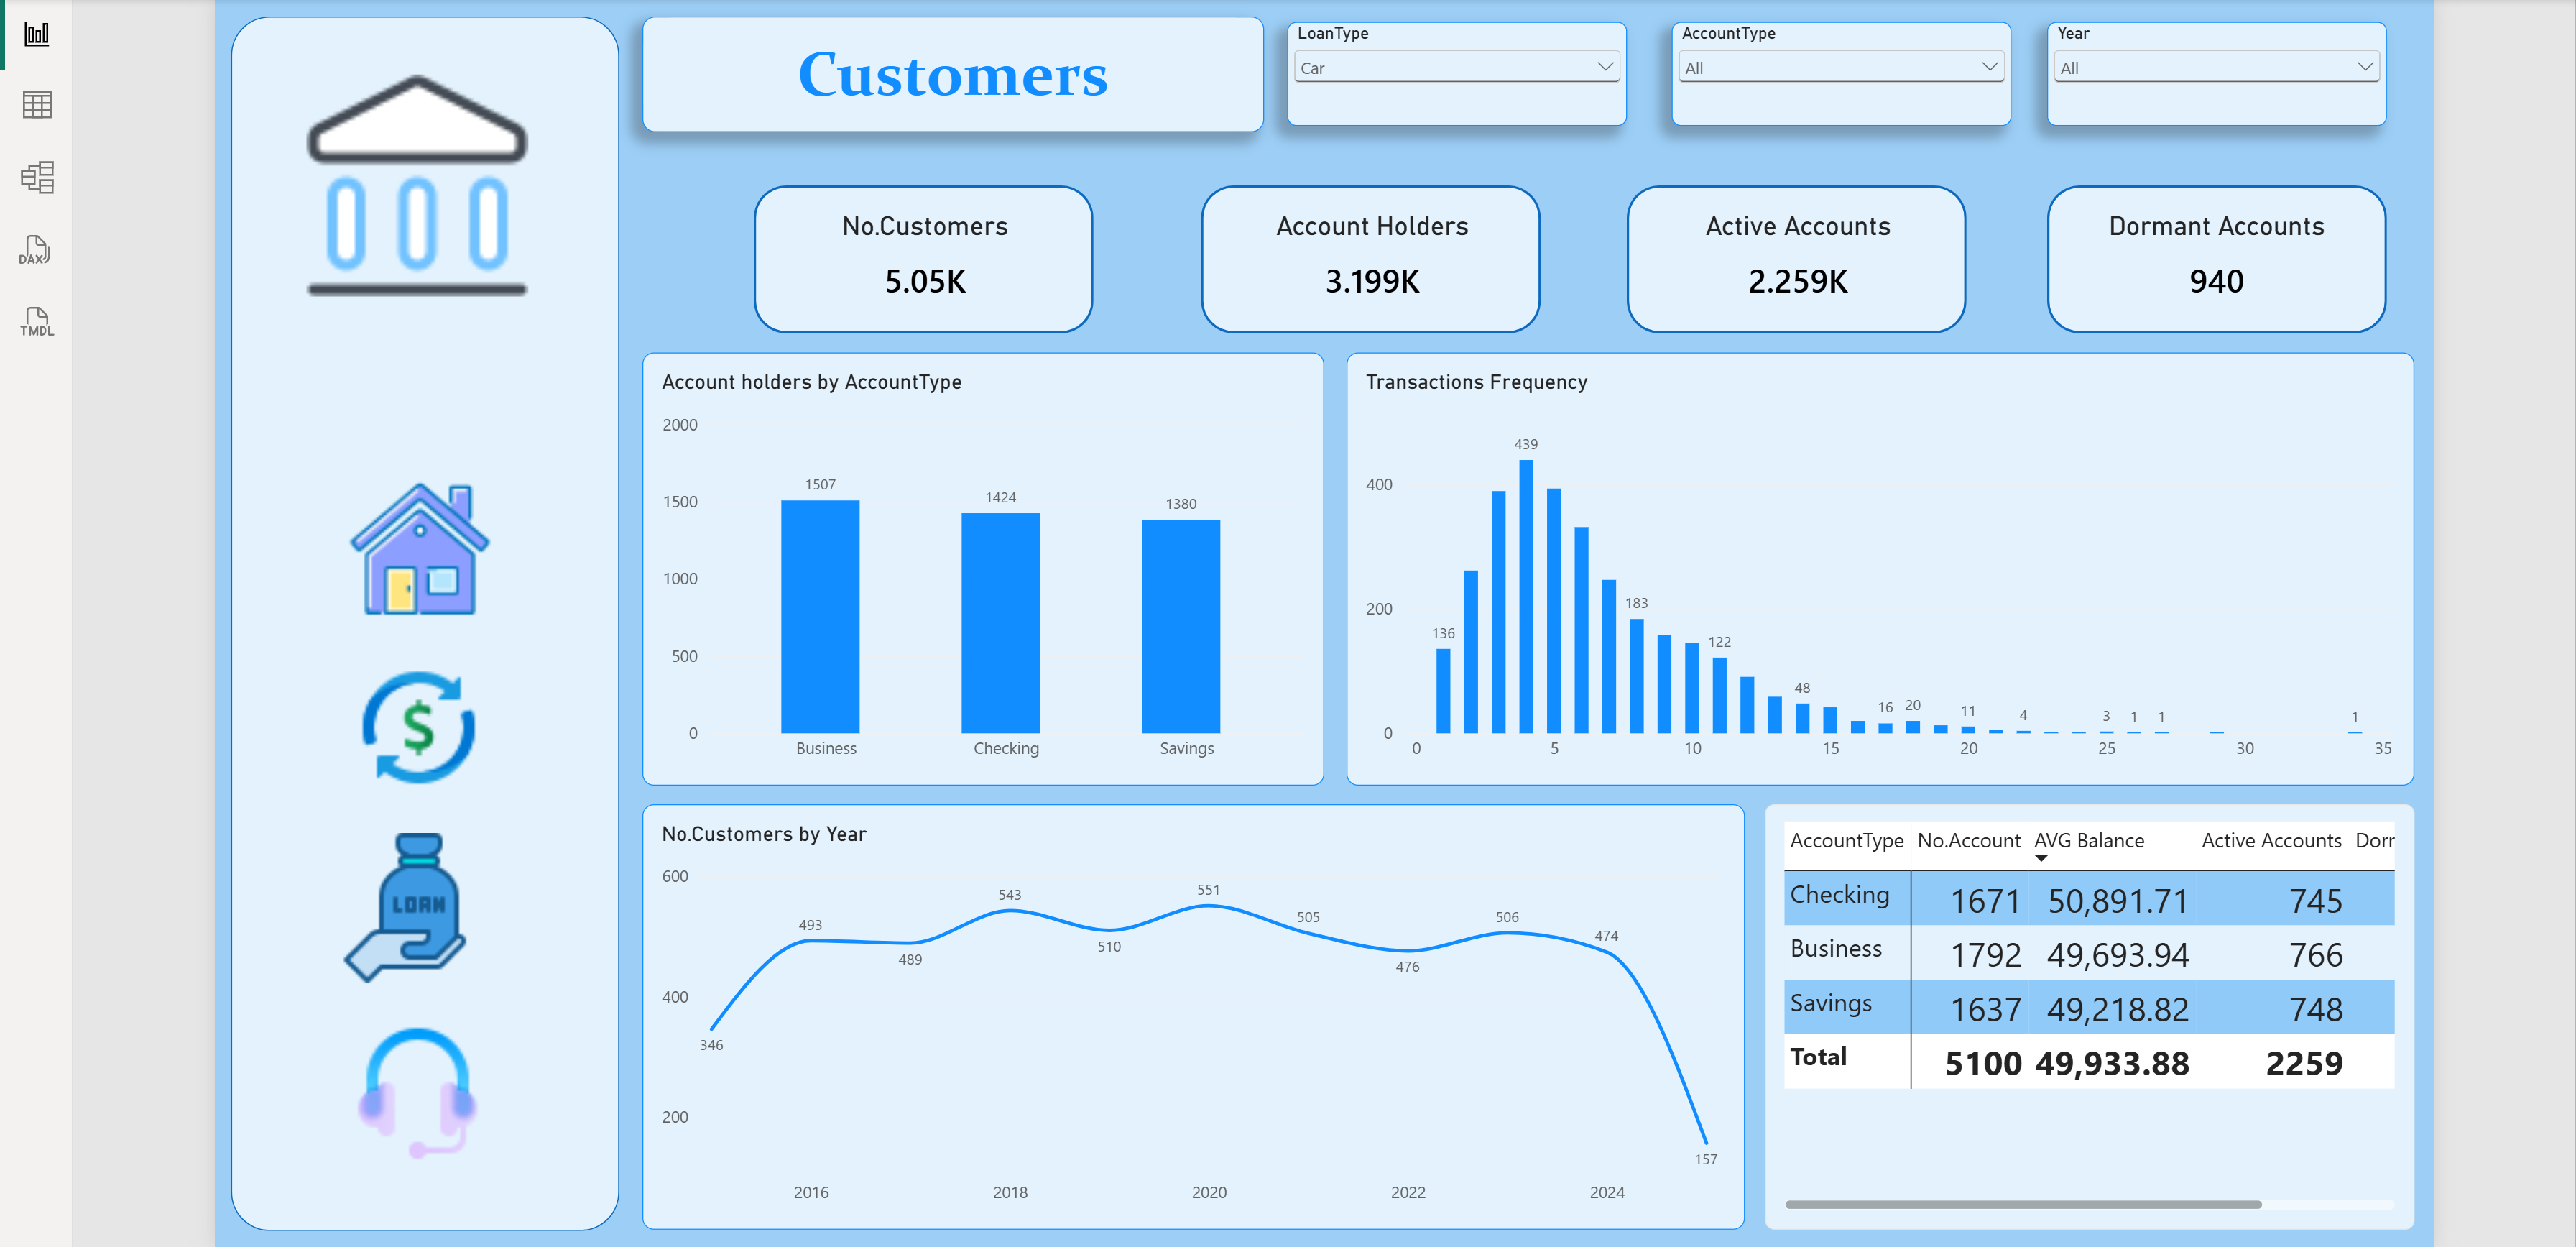

What the dashboard file says about the page in this screenshot:
{"tool":"powerbi","page":{"name":"Customers","canvas":[1920,1080],"ordinal":1},"visuals":[{"type":"shape","box":[1586,162,294,128],"z":0},{"type":"shape","box":[1222,162,294,128],"z":1000},{"type":"shape","box":[854,162,294,128],"z":2000},{"type":"shape","box":[466,162,294,128],"z":3000},{"type":"shape","box":[14,16,336,1050],"z":4000},{"type":"cardVisual","title":"No.Customers","fields":{"Data":["Customers calculations.No.Customers"]},"box":[520,184,188,76],"z":5000},{"type":"cardVisual","title":"Account Holders","fields":{"Data":["customer calculations.Account holder"]},"box":[908,184,188,76],"z":6000},{"type":"cardVisual","title":"Active Accounts","fields":{"Data":["customer calculations.Active Accounts"]},"box":[1276,184,188,76],"z":7000},{"type":"cardVisual","title":"Dormant Accounts","fields":{"Data":["customer calculations.NoneActive Accounts"]},"box":[1628,184,210,76],"z":8000},{"type":"columnChart","fields":{"Category":["Accounts.AccountType"],"Y":["customer calculations.Account holders"]},"box":[370,306,590,374],"z":9000},{"type":"columnChart","title":"Transactions Frequency","fields":{"Category":["customers.number transactions"],"Y":["Overview calculations.No.Customers"]},"box":[980,306,924,374],"z":10000},{"type":"lineChart","fields":{"Category":["calender.Date.Variation.Date Hierarchy.Year","calender.Date.Variation.Date Hierarchy.Quarter","calender.Date.Variation.Date Hierarchy.Month","calender.Date.Variation.Date Hierarchy.Day"],"Y":["Overview calculations.No.Customers"]},"box":[370,696,954,368],"z":11000},{"type":"pivotTable","fields":{"Rows":["Accounts.AccountType"],"Values":["customer calculations.No.Account","Overview calculations.AVG Balance","customer calculations.Active Accounts","customer calculations.NoneActive Accounts"]},"box":[1342,696,562,368],"z":12000},{"type":"image","box":[80,64,192,196],"z":13000},{"type":"image","box":[74,408,206,134],"z":14000},{"type":"image","box":[58,722,214,130],"z":15000},{"type":"image","box":[66,572,222,116],"z":16000},{"type":"image","box":[116,888,118,118],"z":17000},{"type":"slicer","fields":{"Values":["calender.Year"]},"box":[1586,20,294,90],"z":18000},{"type":"slicer","fields":{"Values":["Accounts.AccountType"]},"box":[1260,20,294,90],"z":19000},{"type":"slicer","fields":{"Values":["Loans.LoanType"]},"box":[928,20,294,90],"z":20000},{"type":"shape","title":"Over","box":[370,16,538,100],"z":21000}]}

Visuals, with their boxes on the page's 1920x1080 design canvas (x1, y1, x2, y2). These are canvas units, not pixel positions in the 2576x1247 screenshot, which may show the page scaled, cropped or inside an application window:
shape: rect(1586, 162, 1880, 290)
shape: rect(1222, 162, 1516, 290)
shape: rect(854, 162, 1148, 290)
shape: rect(466, 162, 760, 290)
shape: rect(14, 16, 350, 1066)
"No.Customers" cardVisual: rect(520, 184, 708, 260)
"Account Holders" cardVisual: rect(908, 184, 1096, 260)
"Active Accounts" cardVisual: rect(1276, 184, 1464, 260)
"Dormant Accounts" cardVisual: rect(1628, 184, 1838, 260)
columnChart - Accounts.AccountType x customer calculations.Account holders: rect(370, 306, 960, 680)
"Transactions Frequency" columnChart: rect(980, 306, 1904, 680)
lineChart - calender.Date.Variation.Date Hierarchy.Year x calender.Date.Variation.Date Hierarchy.Quarter: rect(370, 696, 1324, 1064)
pivotTable - Accounts.AccountType x customer calculations.No.Account: rect(1342, 696, 1904, 1064)
image: rect(80, 64, 272, 260)
image: rect(74, 408, 280, 542)
image: rect(58, 722, 272, 852)
image: rect(66, 572, 288, 688)
image: rect(116, 888, 234, 1006)
slicer - calender.Year: rect(1586, 20, 1880, 110)
slicer - Accounts.AccountType: rect(1260, 20, 1554, 110)
slicer - Loans.LoanType: rect(928, 20, 1222, 110)
"Over" shape: rect(370, 16, 908, 116)
